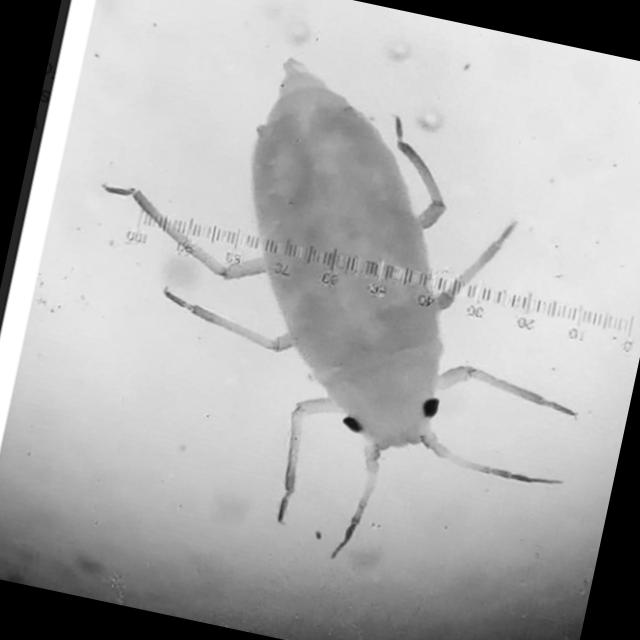Aphids: (20, 5, 640, 611)
